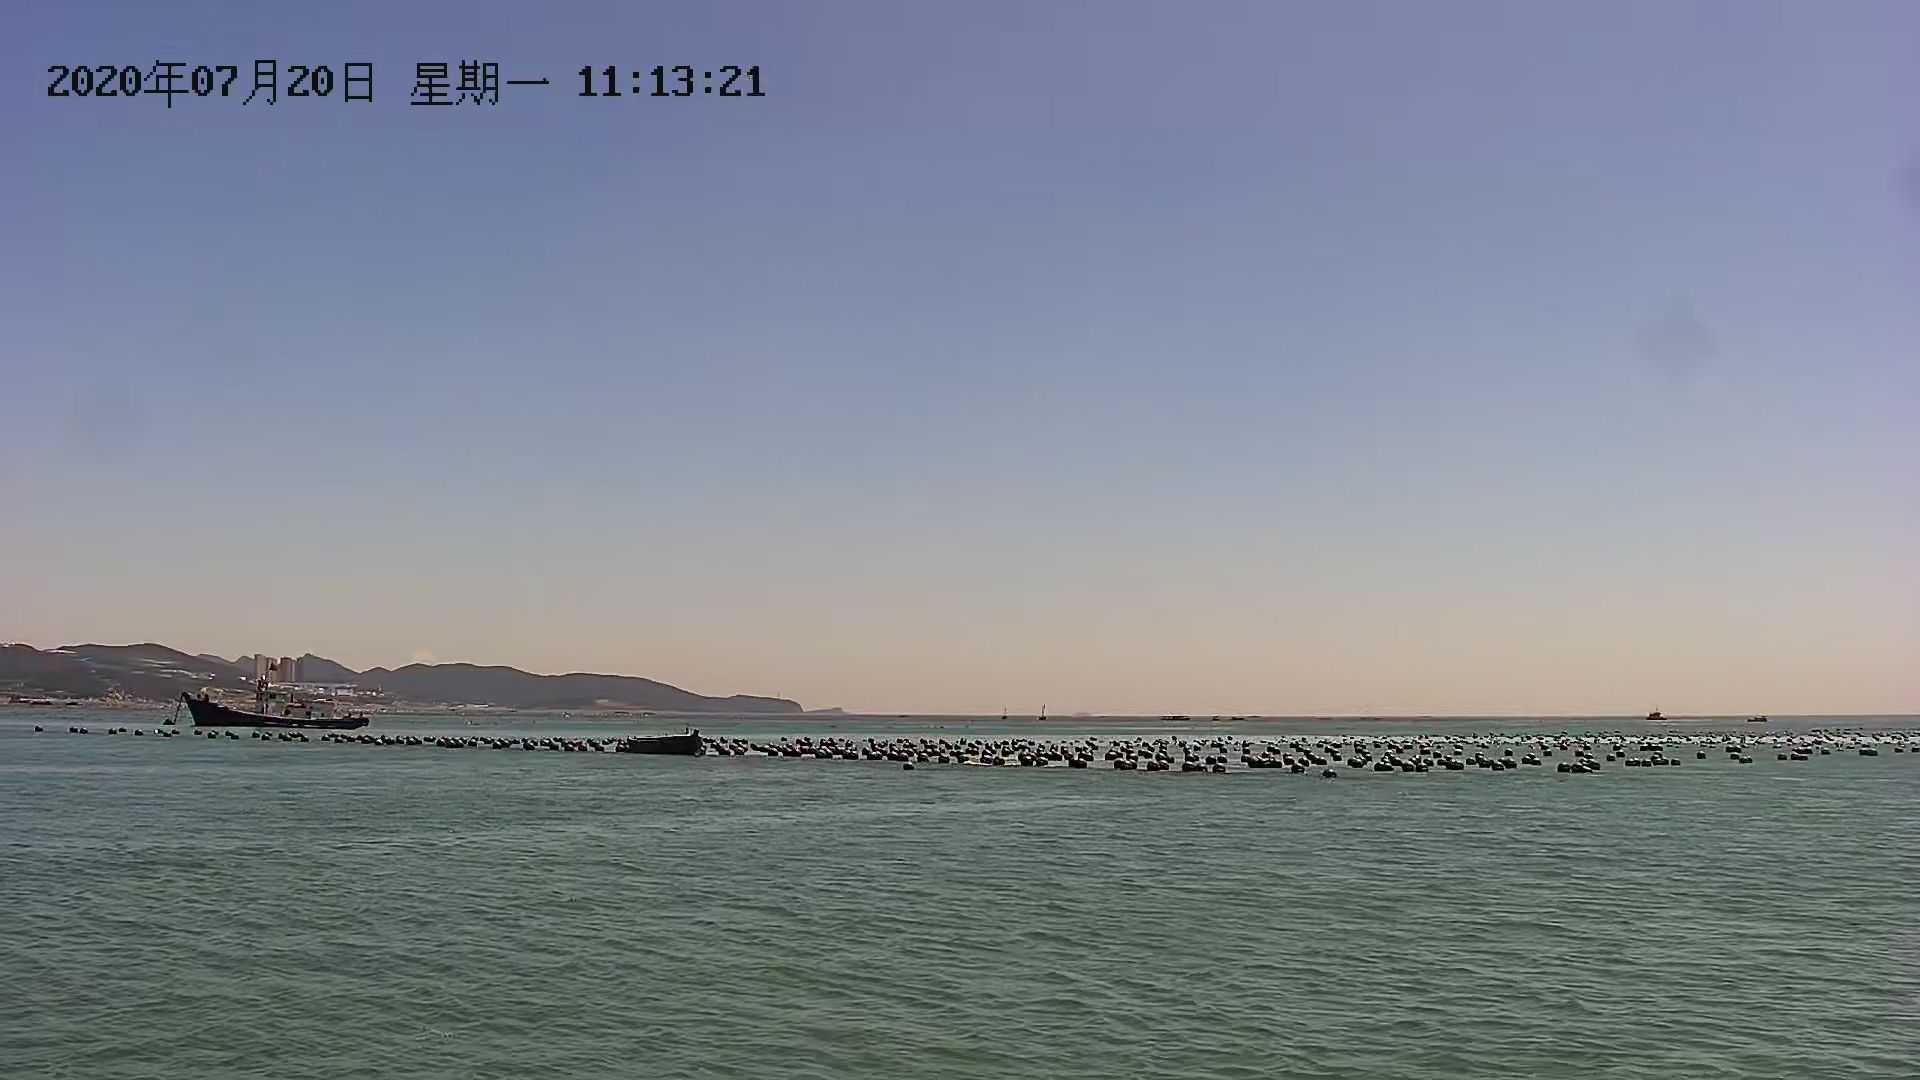boat: (618, 727, 705, 760)
ship: (175, 678, 373, 738)
